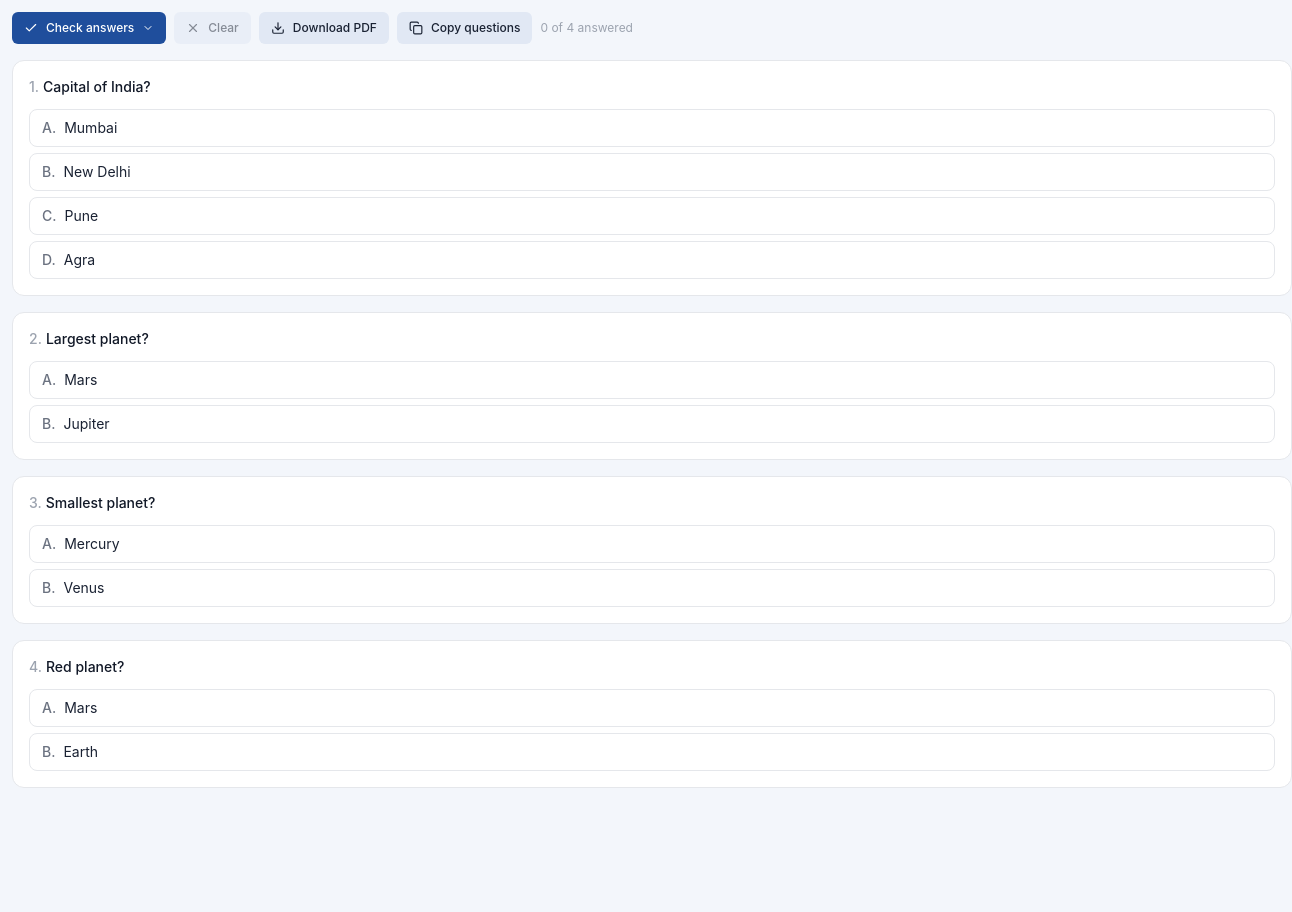
Test: Check answers › offers 'Check answered' and 'Check all'
This screenshot has width=1292, height=912.
Click the radio button labelled "B. New Delhi" at [97, 172], box [29,153,1275,191]
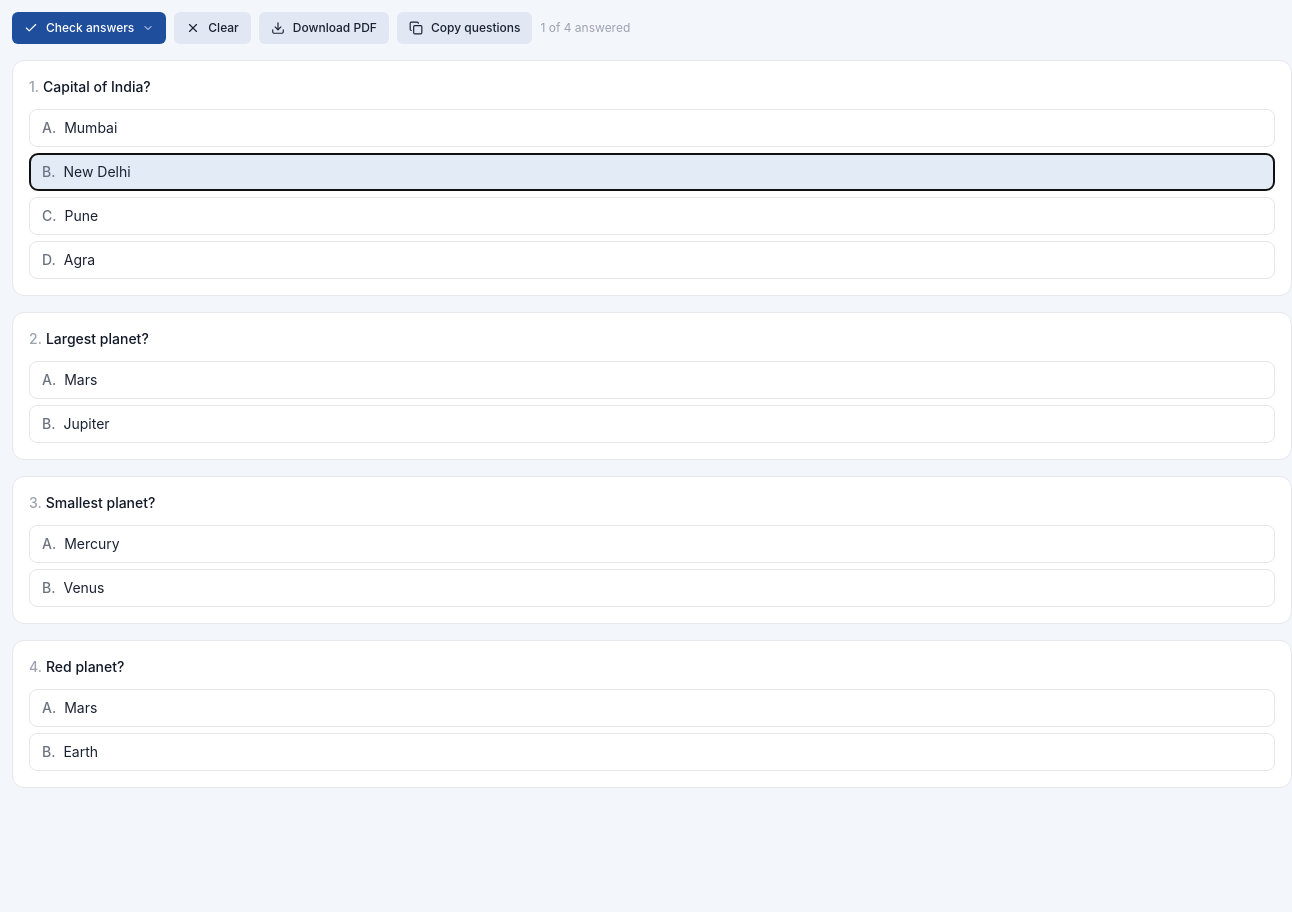
Click the button "Check answers" at [89, 28], box [12,12,166,44]
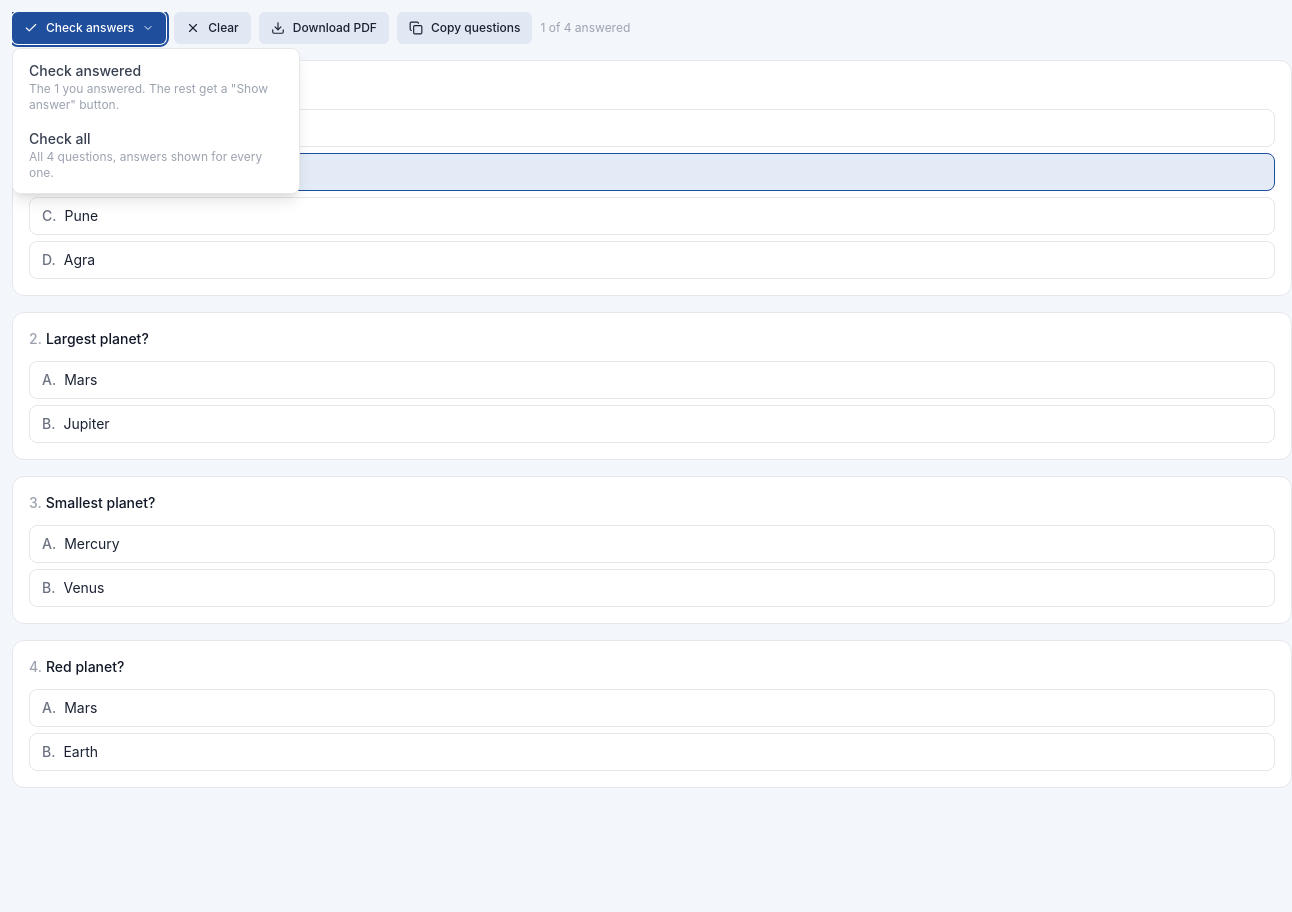
Check: the menu item "Check answered" is enabled, box [13,53,299,121]
Check: the menu item "Check all All 4 questions, answers shown for every one." is enabled, box [13,121,299,189]
